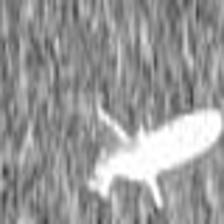plane: (89, 100, 222, 211)
